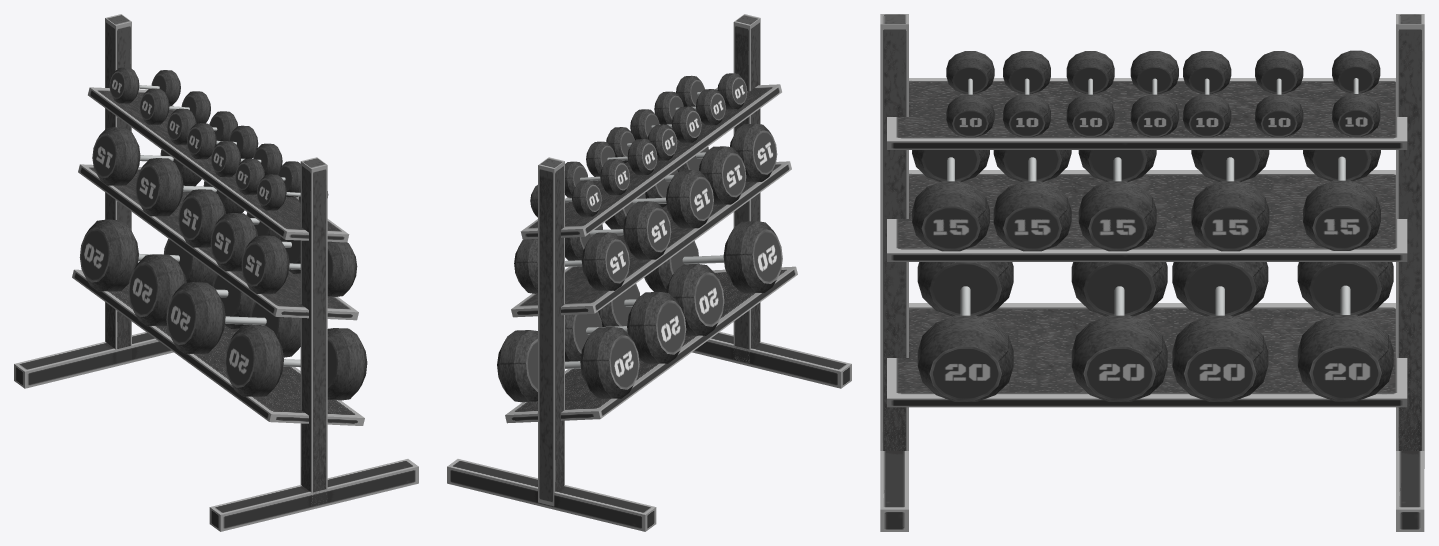
File: dumbell stand.fbx
The picture shows the model from 3 angles, left to right: view 1: azimuth 30°, elevation 25°; view 2: azimuth 150°, elevation 25°; view 3: azimuth 270°, elevation 25°; orthographic projection. The views are drawn at different scales.
Visible parts, largest first — view 1: dumbell_stand; view 2: dumbell_stand; view 3: dumbell_stand.
Part boxes in pixels (x1,y1,x2,y2): dumbell_stand: (14,14,418,531); dumbell_stand: (447,14,851,531); dumbell_stand: (880,14,1424,531).
Size of the model in its own units: 243 by 399 by 438.
